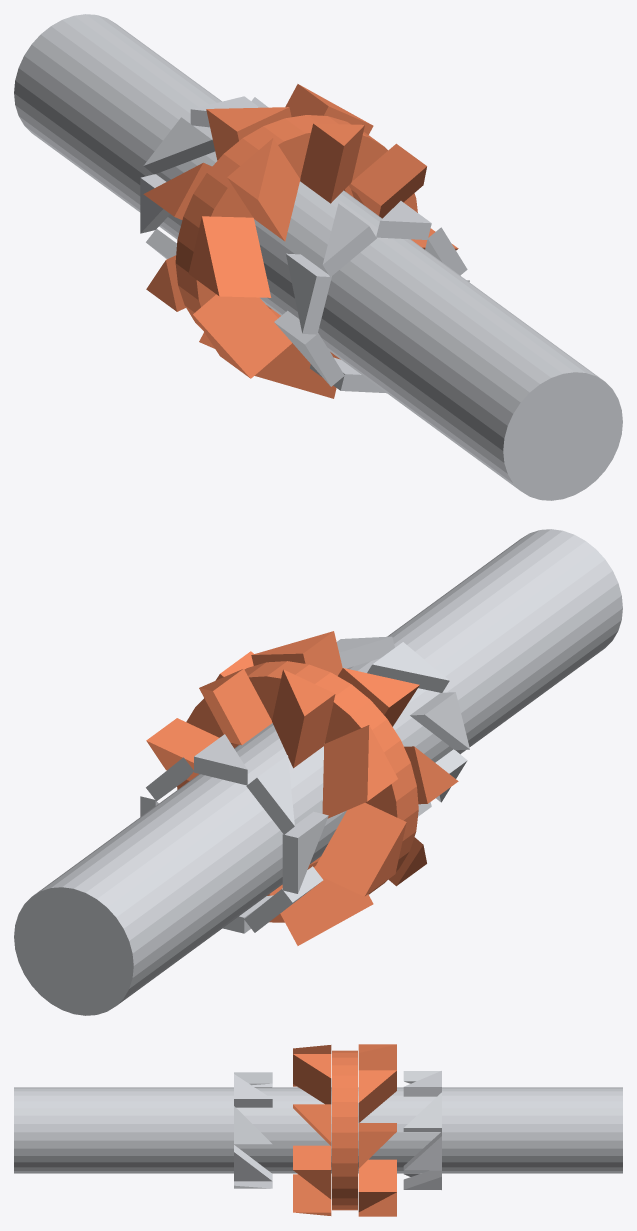
File: ConstraintPiston.glb
3 renders of one model, top to bottom at view 1: azimuth 30°, elevation 25°; view 2: azimuth 150°, elevation 25°; view 3: azimuth 270°, elevation 25°, orthographic. The views are drawn at different scales.
Visible parts, largest first — view 1: Cylinder.001, Circle.002, Circle.003; view 2: Cylinder.001, Circle.002, Circle.003; view 3: Cylinder.001, Circle.002, Circle.003.
Part boxes in pixels (x1,y1,x2,y2): Cylinder.001: (14,14,622,500); Circle.002: (143,84,458,398); Circle.003: (140,96,469,393); Cylinder.001: (14,529,622,1015); Circle.002: (146,631,458,945); Circle.003: (140,636,469,933); Cylinder.001: (14,1087,622,1173); Circle.002: (293,1044,396,1216); Circle.003: (234,1071,441,1189).
Size of the model in its own units: 1.08 by 1.08 by 3.82.
